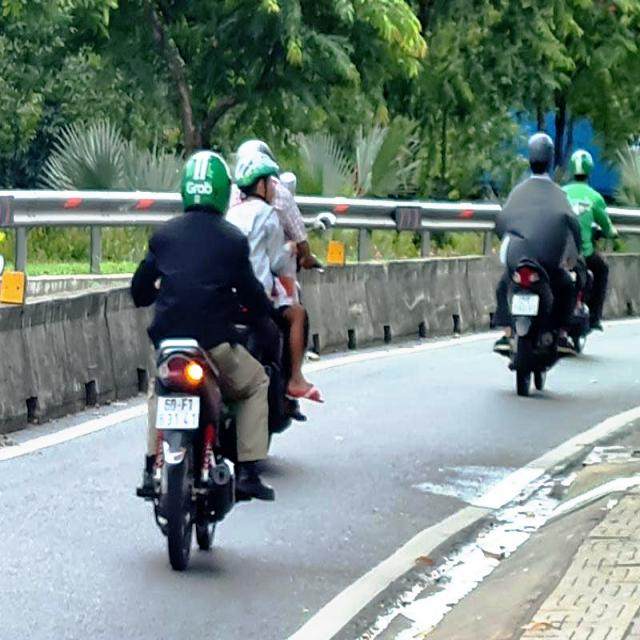license_plate: (156, 396, 202, 429), (512, 294, 541, 315)
